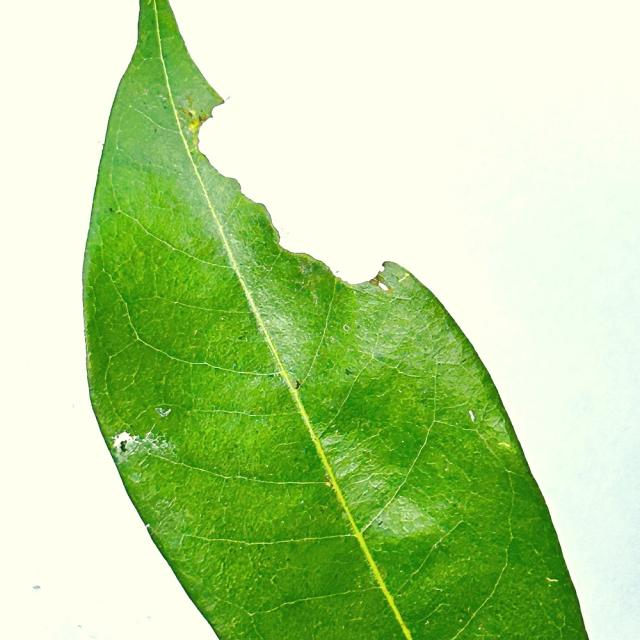Deficiency Leaf: (170, 0, 404, 282)
Lychee: (83, 0, 587, 639)
